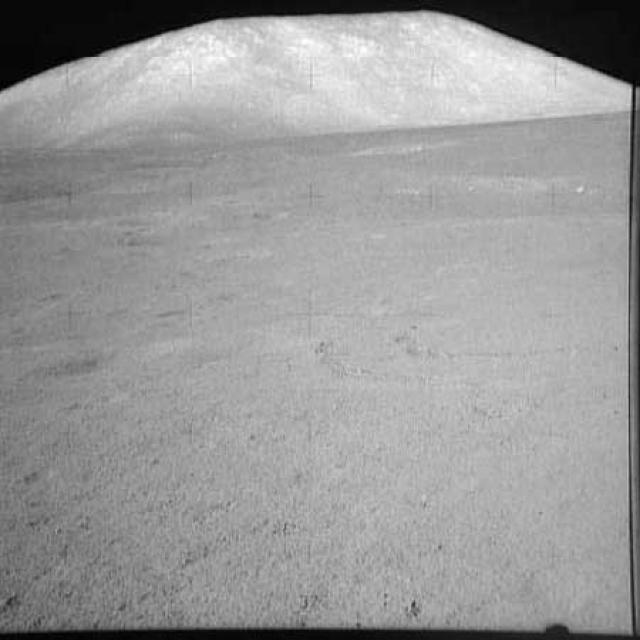crater: (22, 338, 172, 384), (0, 171, 114, 202)
